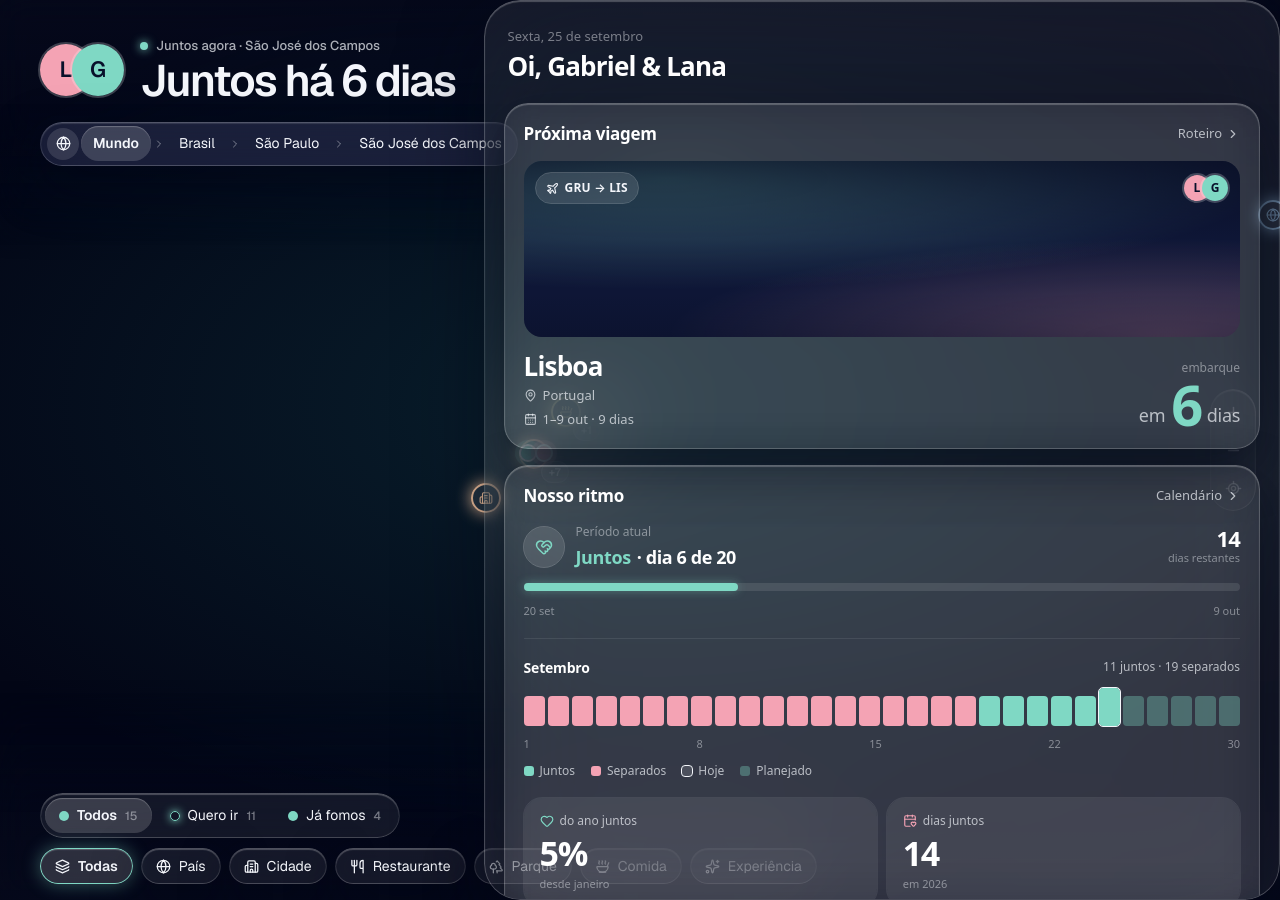
it: A10 — breadcrumb e seletores: Brasil → São Paulo → São José dos Campos › escolher um país sem lugar voa para o centro dele
What coordinates should you click on to do the following:
click the button "Mundo"
I would click on:
 (116, 144)
Its box is [81,126,151,161].
(page scrolled)
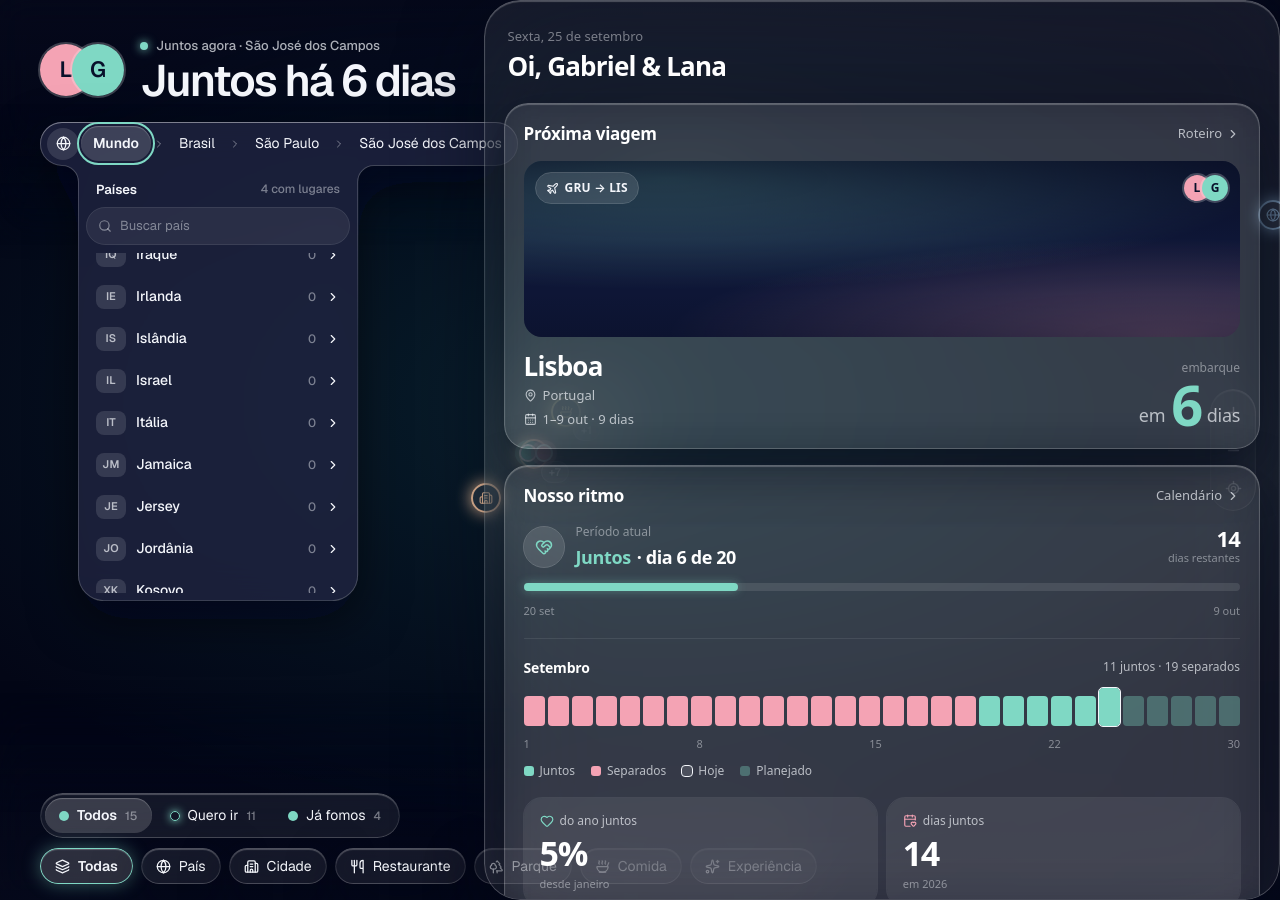
What coordinates should you click on to do the following:
click the button "IT Itália 0"
I would click on:
 (152, 422)
Its box is [86,402,350,442].
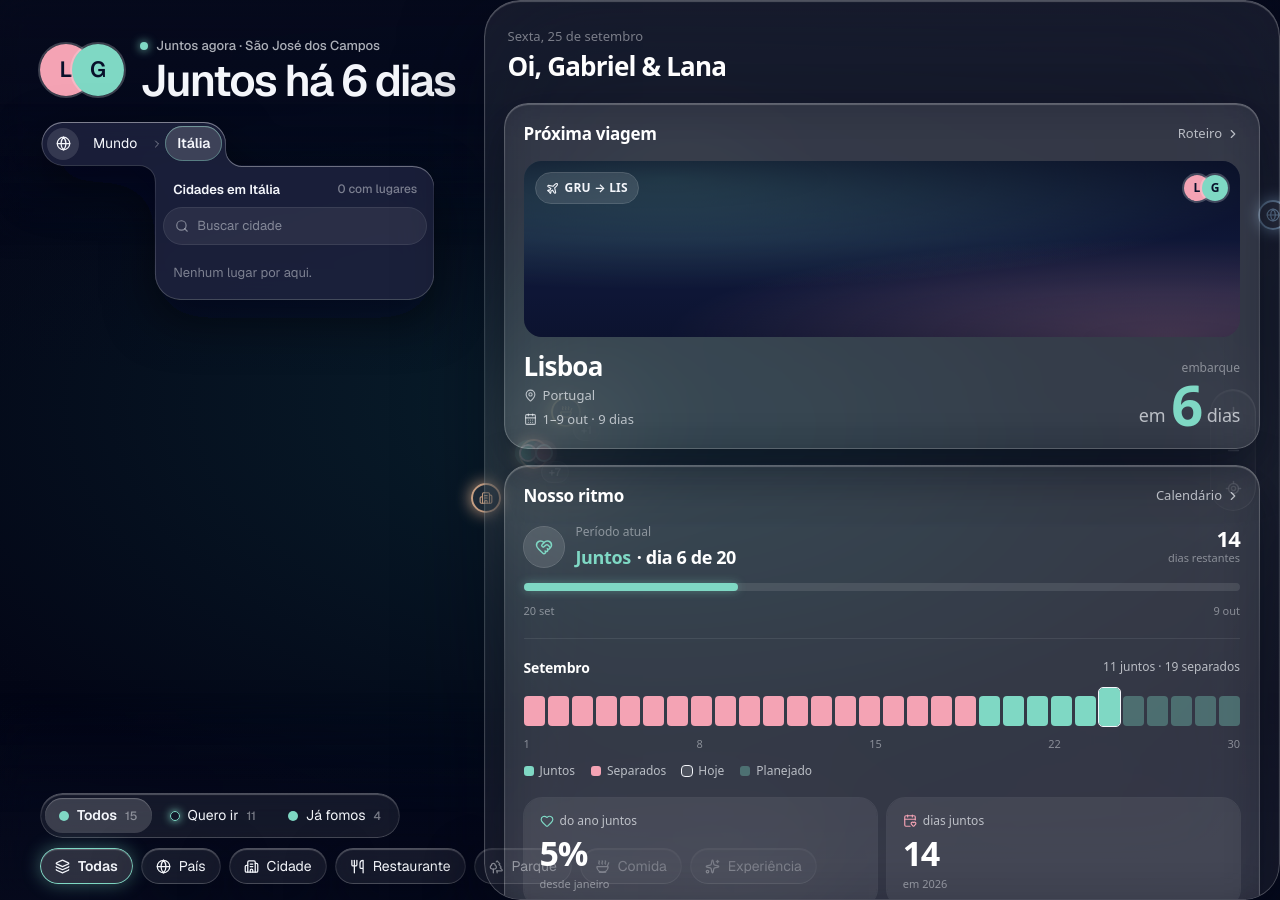
Check: the button "Itália" is shown, box [165,126,222,161]
